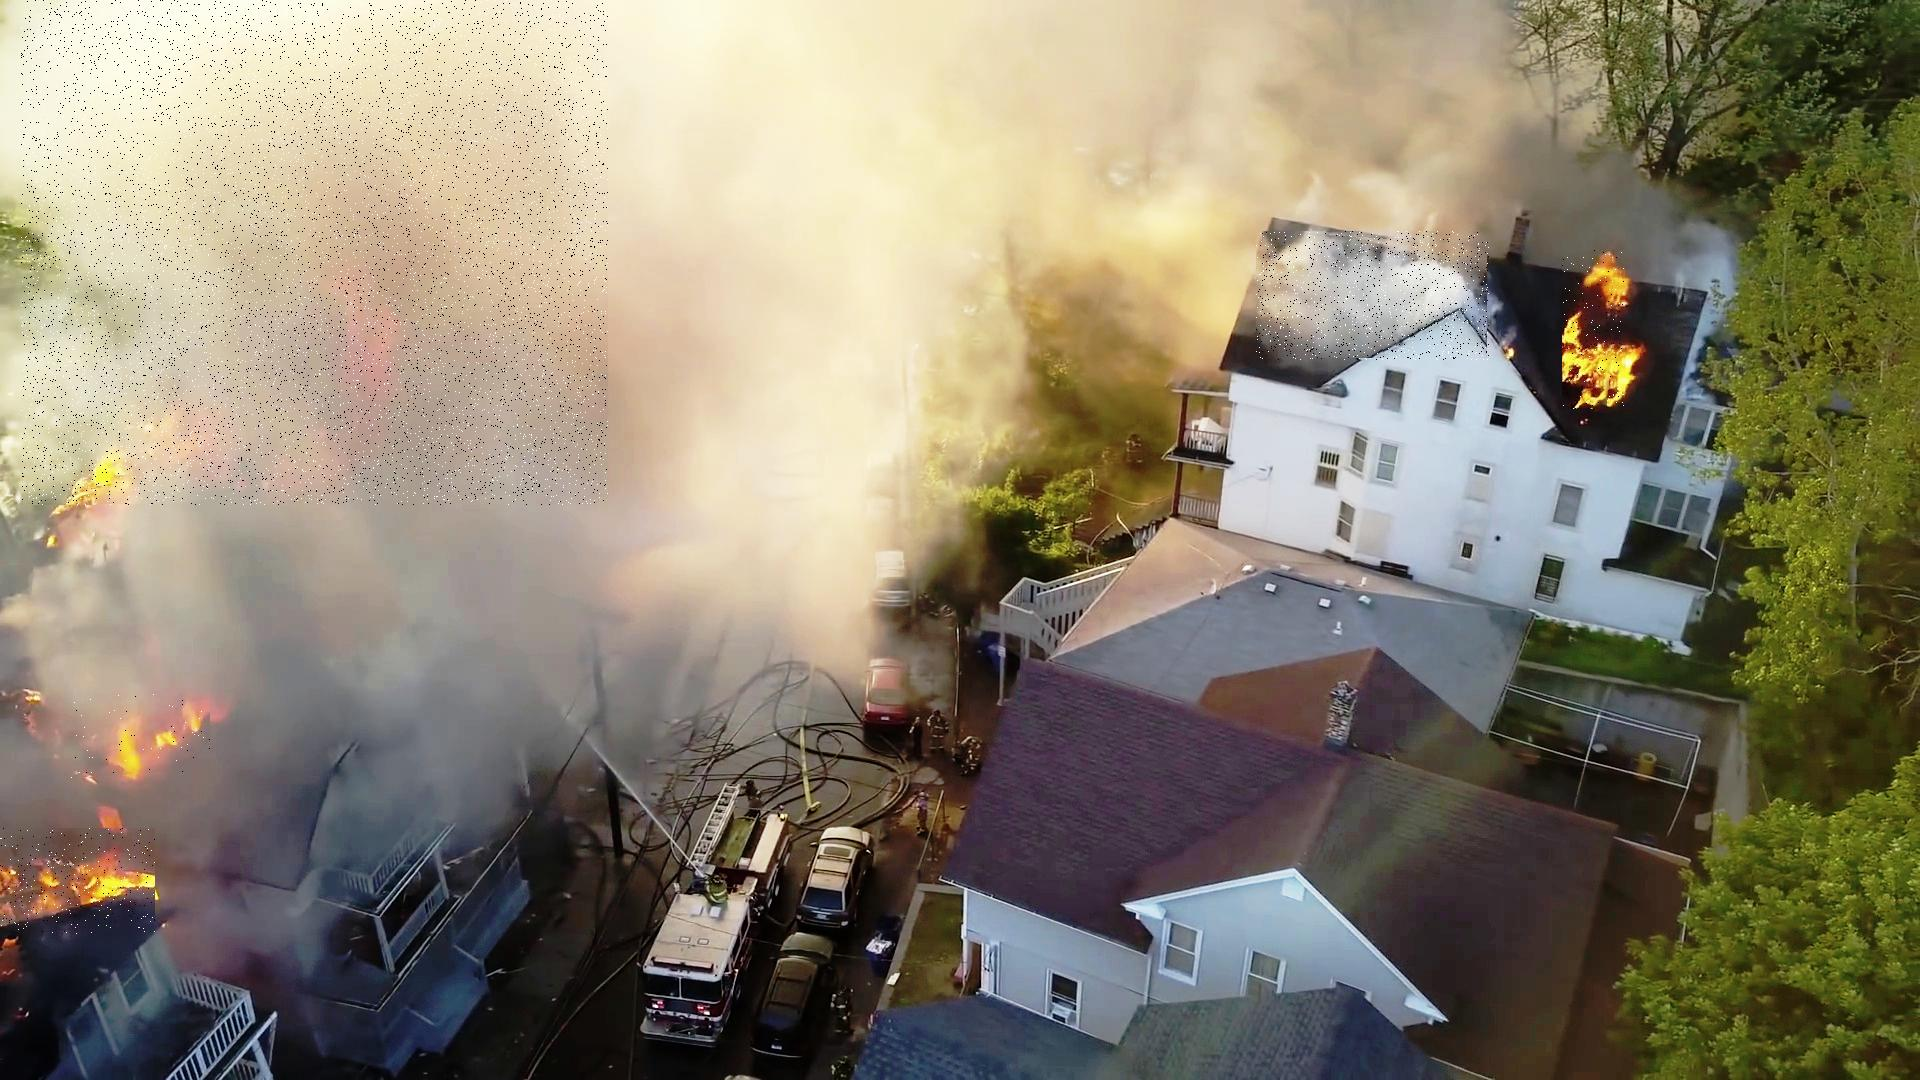fire: (0, 828, 156, 934), (71, 694, 211, 778), (1563, 251, 1625, 409)
smoke: (21, 0, 608, 505), (1257, 232, 1490, 361)
